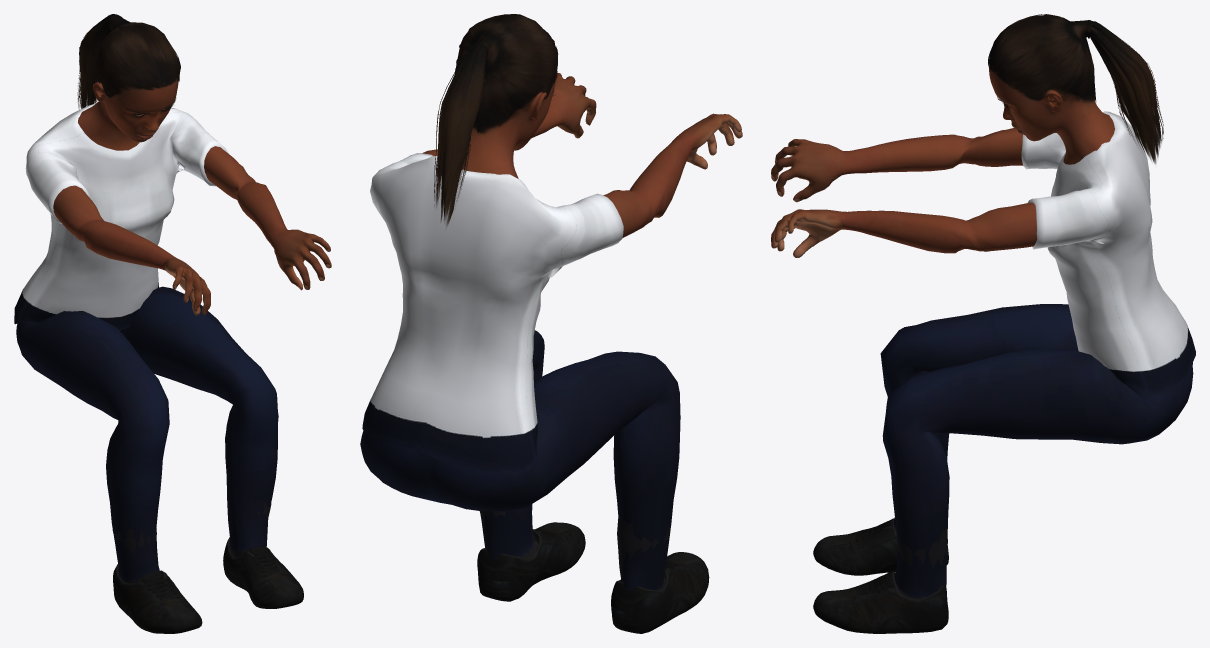
The model's file is g4_sit_build.glb.
3 views of the same model, side by side, from view 1: azimuth 30°, elevation 25°; view 2: azimuth 150°, elevation 25°; view 3: azimuth 270°, elevation 25° (orthographic). The views are drawn at different scales.
Visible parts, largest first — view 1: g4.female_casualsuit01, g4, g4.shoes02, g4.ponytail01; view 2: g4.female_casualsuit01, g4.ponytail01, g4, g4.shoes02; view 3: g4.female_casualsuit01, g4, g4.ponytail01, g4.shoes02.
Boxes of the visible parts, box(x1,y1,x2,y2) form: g4.female_casualsuit01: box(14, 103, 278, 581); g4: box(53, 78, 331, 315); g4.shoes02: box(112, 499, 303, 633); g4.ponytail01: box(77, 14, 180, 109); g4.female_casualsuit01: box(360, 153, 680, 590); g4.ponytail01: box(434, 14, 558, 226); g4: box(422, 48, 742, 237); g4.shoes02: box(477, 511, 709, 633); g4.female_casualsuit01: box(880, 111, 1195, 598); g4: box(771, 53, 1114, 257); g4.ponytail01: box(988, 14, 1163, 163); g4.shoes02: box(813, 518, 948, 633).
Bounding box in the file's own units: 0.4156 × 1.14 × 0.7589.
Materials: 7 (7 with a texture image).
